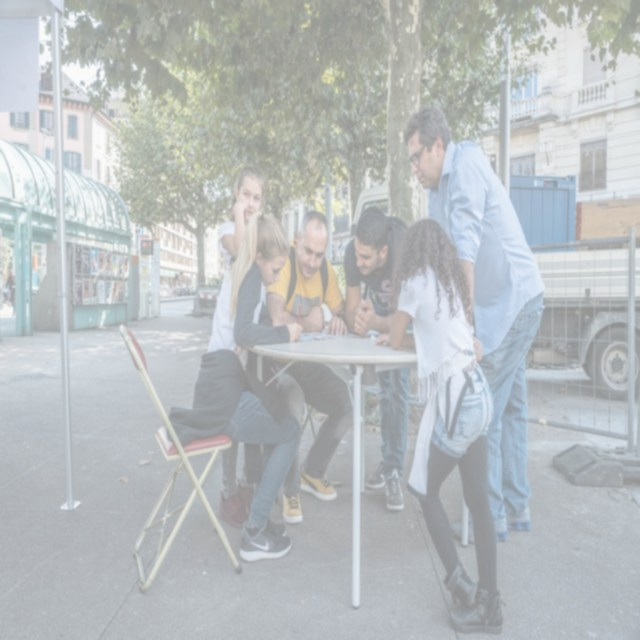pessoa: (400, 102, 548, 546), (392, 215, 514, 638), (188, 209, 304, 566), (264, 208, 354, 526), (342, 210, 412, 512), (216, 163, 268, 530), (5, 268, 15, 306), (10, 274, 16, 319)
